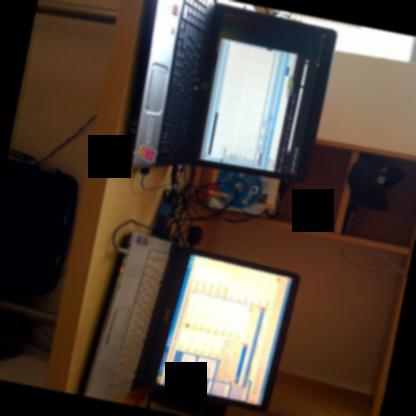suitcase: (0, 147, 78, 299)
